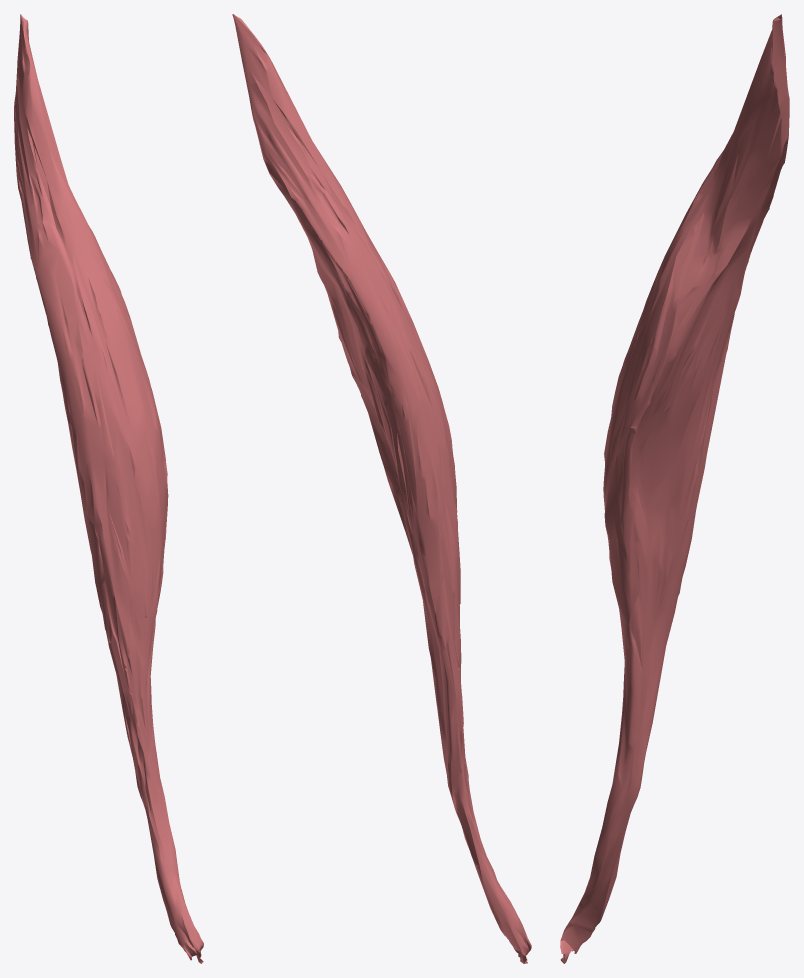
3 views of the same model, side by side, from view 1: azimuth 90°, elevation 25°; view 2: azimuth 150°, elevation 25°; view 3: azimuth 270°, elevation 25° (orthographic). The views are drawn at different scales.
Visible parts, largest first — view 1: FJ1487; view 2: FJ1487; view 3: FJ1487.
Part boxes in pixels (box(x1,y1,x2,y2)): FJ1487: box(14, 14, 203, 963); FJ1487: box(232, 14, 531, 963); FJ1487: box(560, 14, 789, 963).
Size of the model in its own units: 0.072 by 0.3361 by 0.0667.
